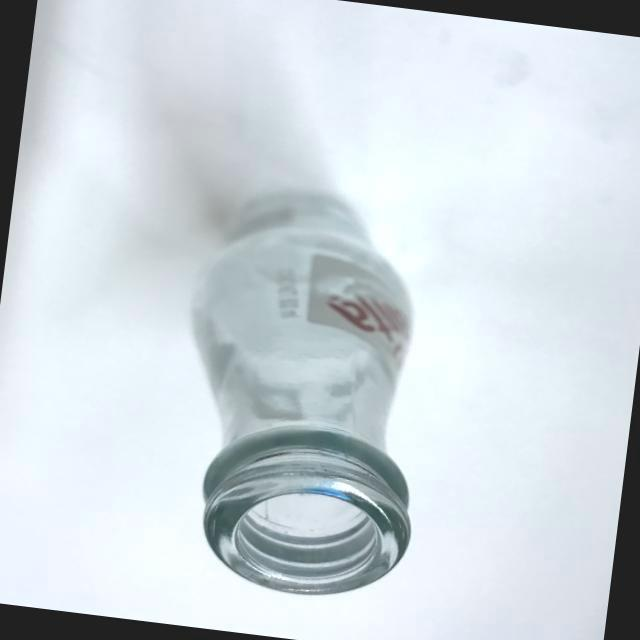glass: (147, 200, 461, 616)
